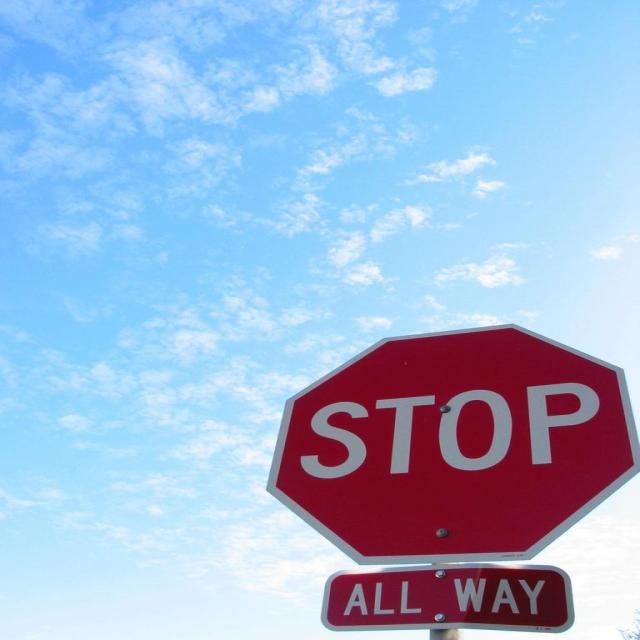Stop-sign: (262, 324, 640, 564)
